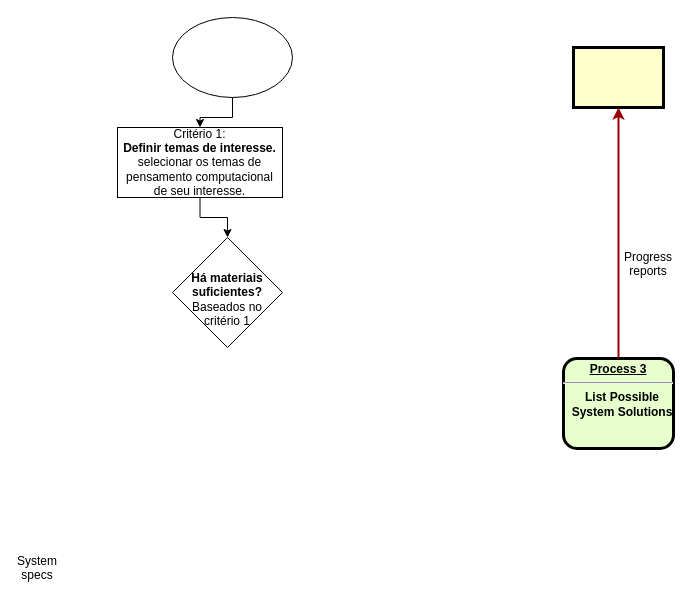
The diagram is 692 pixels wide and 600 high, and some of its shapes have lost their labels. The shapes that lost their labels are listed below. From the top down, each one's box as (x1, y1, x2, y2) in pixels, then its label:
(172, 16, 292, 98): Inicio
(572, 46, 664, 108): Management
